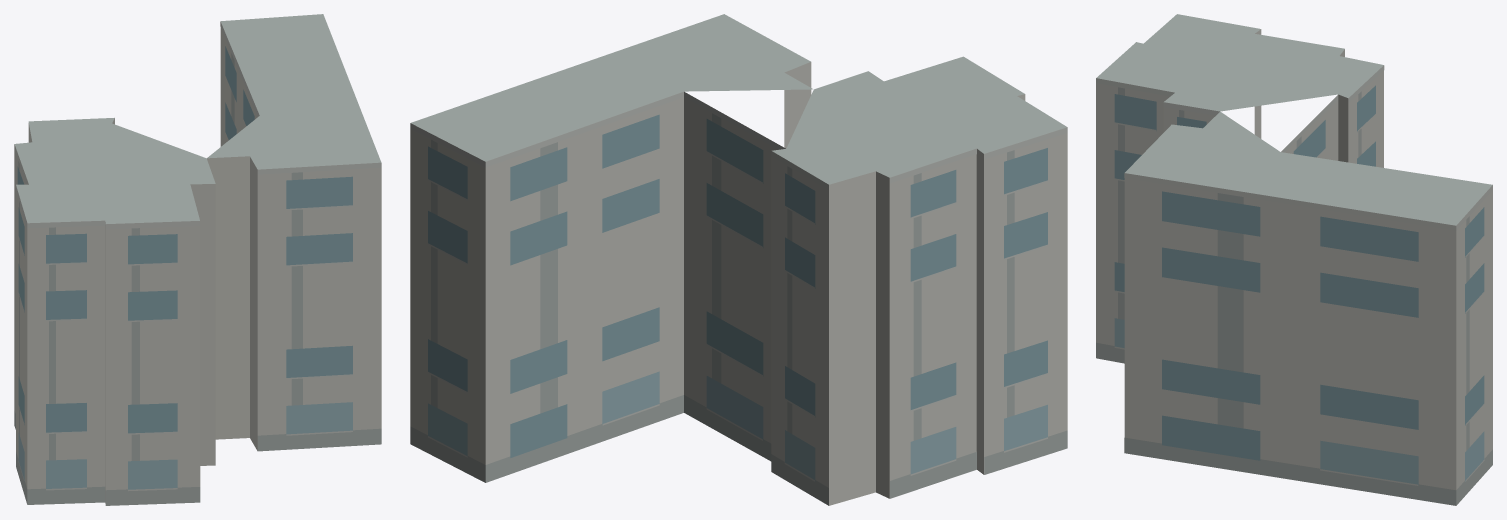
File: survey-upis-32970383.glb
The picture shows the model from 3 angles, left to right: view 1: azimuth 30°, elevation 25°; view 2: azimuth 150°, elevation 25°; view 3: azimuth 270°, elevation 25°; orthographic projection. The views are drawn at different scales.
Visible parts, largest first — view 1: survey-upis-32970383.tmp; view 2: survey-upis-32970383.tmp; view 3: survey-upis-32970383.tmp.
Part boxes in pixels (left/top/right/bottom): survey-upis-32970383.tmp: left=14, top=14, right=381, bottom=505; survey-upis-32970383.tmp: left=410, top=14, right=1067, bottom=505; survey-upis-32970383.tmp: left=1096, top=14, right=1492, bottom=505.
Bounding box in the file's own units: 21.56 × 13.3 × 17.08.
